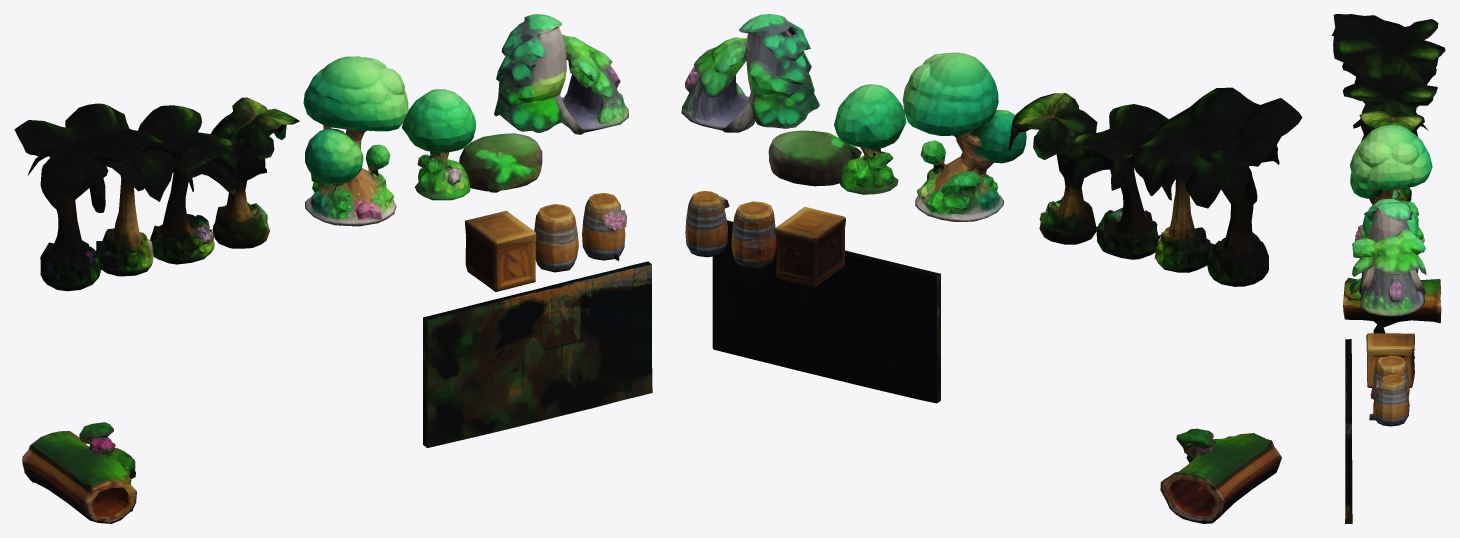
Rendered from jungle.glb.
3 views of the same model, side by side, from view 1: azimuth 30°, elevation 25°; view 2: azimuth 150°, elevation 25°; view 3: azimuth 270°, elevation 25° (orthographic). The views are drawn at different scales.
Visible parts, largest first — view 1: world; view 2: world; view 3: world.
Boxes of the visible parts, x1,y1,x2,y2 form: world: (14, 14, 652, 523); world: (681, 14, 1302, 523); world: (1331, 14, 1445, 523).
Size of the model in its own units: 1 by 0.6412 by 0.2163.
Materials: 1 (1 with a texture image).
